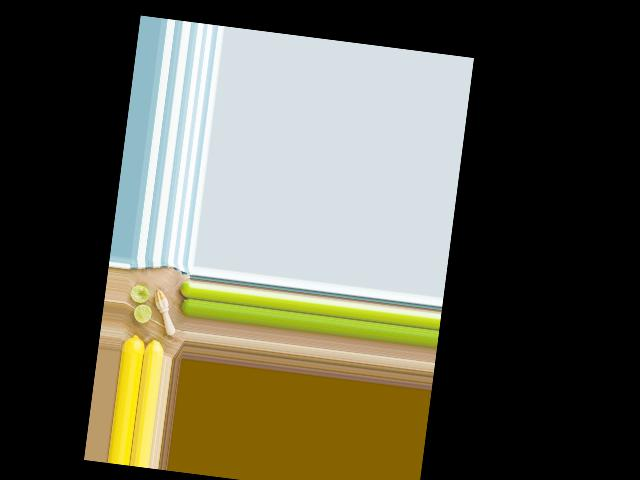lemon: (120, 330, 148, 354)
